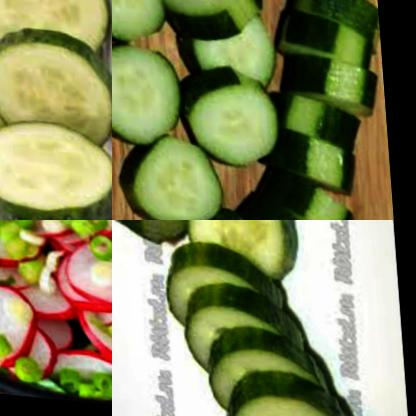cucumber: (148, 236, 351, 416), (0, 0, 95, 219), (267, 81, 371, 220), (0, 16, 112, 140), (273, 0, 383, 108), (0, 114, 112, 220), (177, 61, 283, 167), (114, 129, 235, 220), (175, 0, 283, 89), (112, 38, 187, 146), (173, 220, 292, 276), (0, 0, 111, 48), (151, 0, 269, 42), (202, 186, 321, 220), (112, 0, 175, 48)
rediska: (60, 220, 112, 366), (0, 263, 56, 368)
